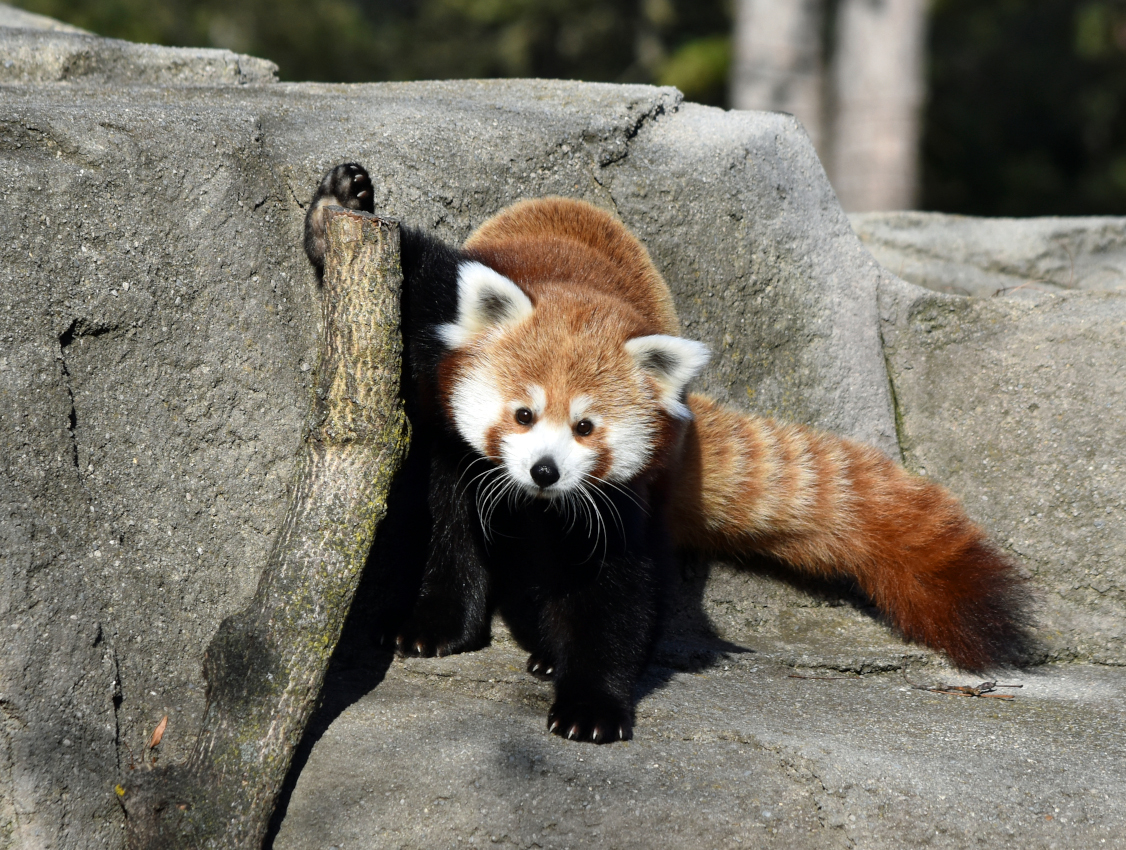Red panda: (437, 257, 715, 503)
